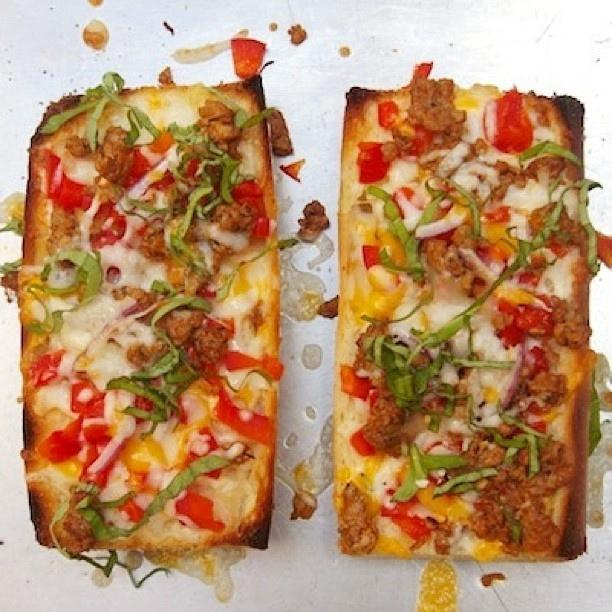onion: (85, 299, 139, 357), (87, 414, 136, 474), (120, 156, 168, 212), (170, 29, 248, 63), (502, 342, 534, 410), (415, 204, 471, 240), (194, 220, 248, 253), (203, 289, 260, 320), (458, 248, 500, 287), (79, 190, 101, 252), (116, 303, 156, 335), (438, 141, 470, 179), (395, 190, 424, 230), (57, 346, 83, 378), (466, 164, 500, 186), (484, 100, 498, 146), (439, 360, 460, 384), (467, 111, 481, 139)
tomato: (79, 424, 129, 490), (217, 388, 273, 446), (484, 89, 533, 154), (231, 178, 269, 242), (38, 411, 84, 462), (176, 488, 224, 532), (224, 352, 283, 380), (92, 203, 126, 250), (26, 348, 64, 388), (54, 172, 92, 212), (356, 141, 391, 184), (69, 380, 106, 420), (231, 38, 266, 80), (391, 515, 432, 550), (121, 149, 154, 190), (340, 364, 374, 402), (498, 298, 530, 329), (380, 494, 420, 517), (406, 124, 433, 156), (350, 428, 376, 456), (378, 101, 400, 127), (362, 245, 380, 270)
